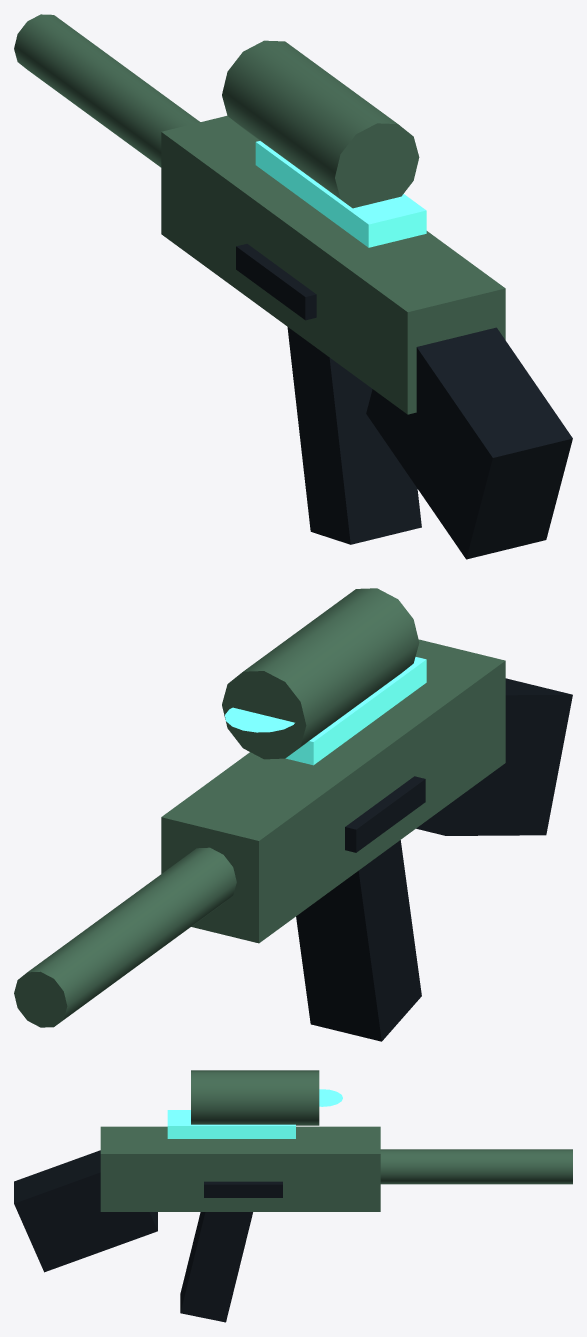
The model's file is volt-smg.glb.
The picture shows the model from 3 angles, top to bottom: view 1: azimuth 30°, elevation 25°; view 2: azimuth 150°, elevation 25°; view 3: azimuth 270°, elevation 25°; orthographic projection. The views are drawn at different scales.
Visible parts, largest first — view 1: volt-smg; view 2: volt-smg; view 3: volt-smg.
Boxes of the visible parts, box(x1,y1,x2,y2) form: volt-smg: box(14, 14, 572, 559); volt-smg: box(14, 588, 572, 1041); volt-smg: box(14, 1070, 572, 1322).
Bounding box in the file's own units: 0.27 × 0.9072 × 1.92.
